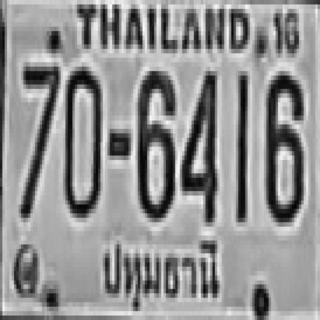N00: (63, 62, 100, 213)
N01: (234, 71, 245, 218), (235, 71, 246, 218)
N04: (180, 67, 215, 218)
N06: (136, 67, 173, 218), (264, 67, 301, 218)
N07: (19, 60, 58, 216)
P38: (100, 233, 223, 315)
